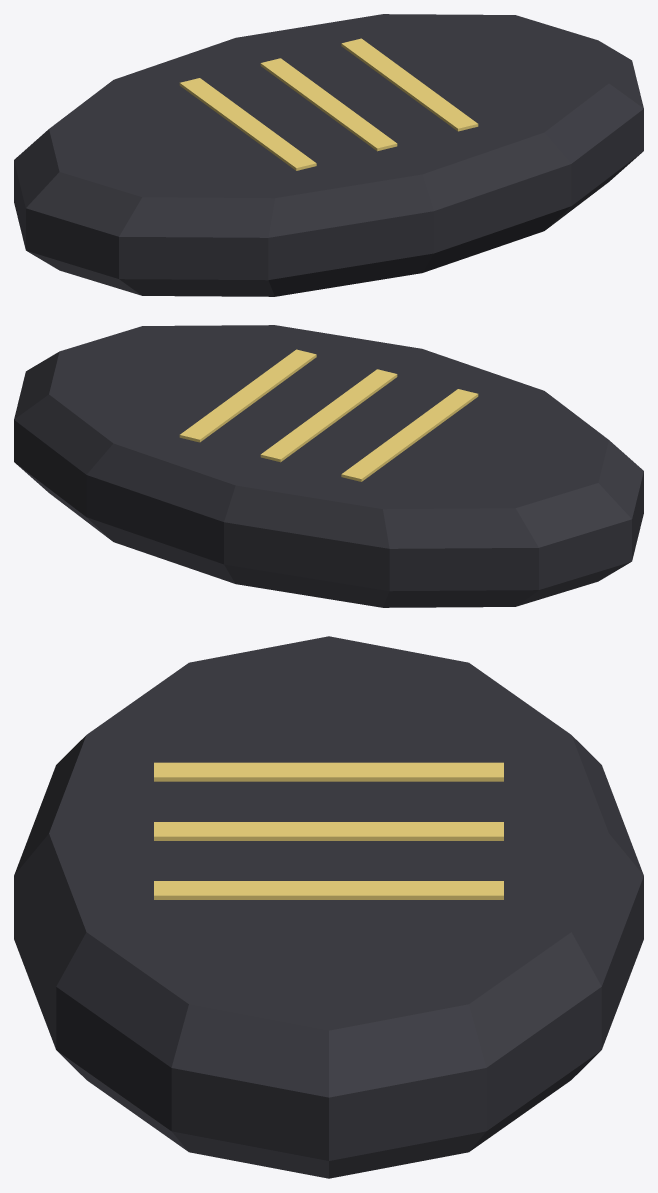
File: prop-touchstone.fbx
3 renders of one model, top to bottom at view 1: azimuth 30°, elevation 25°; view 2: azimuth 150°, elevation 25°; view 3: azimuth 270°, elevation 25°, orthographic. The views are drawn at different scales.
Visible parts, largest first — view 1: prop-touchstone; view 2: prop-touchstone; view 3: prop-touchstone.
Part boxes in pixels (bbox=[...]): prop-touchstone: bbox=[14, 14, 643, 296]; prop-touchstone: bbox=[14, 325, 643, 607]; prop-touchstone: bbox=[14, 636, 643, 1178].
Bounding box in the file's own units: 9 × 1.44 × 5.4.
